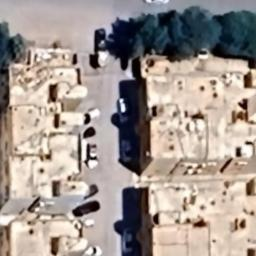sedan: (118, 136, 137, 168), (116, 97, 134, 128), (84, 142, 100, 172)
unknown: (70, 199, 102, 219), (119, 226, 140, 256)
